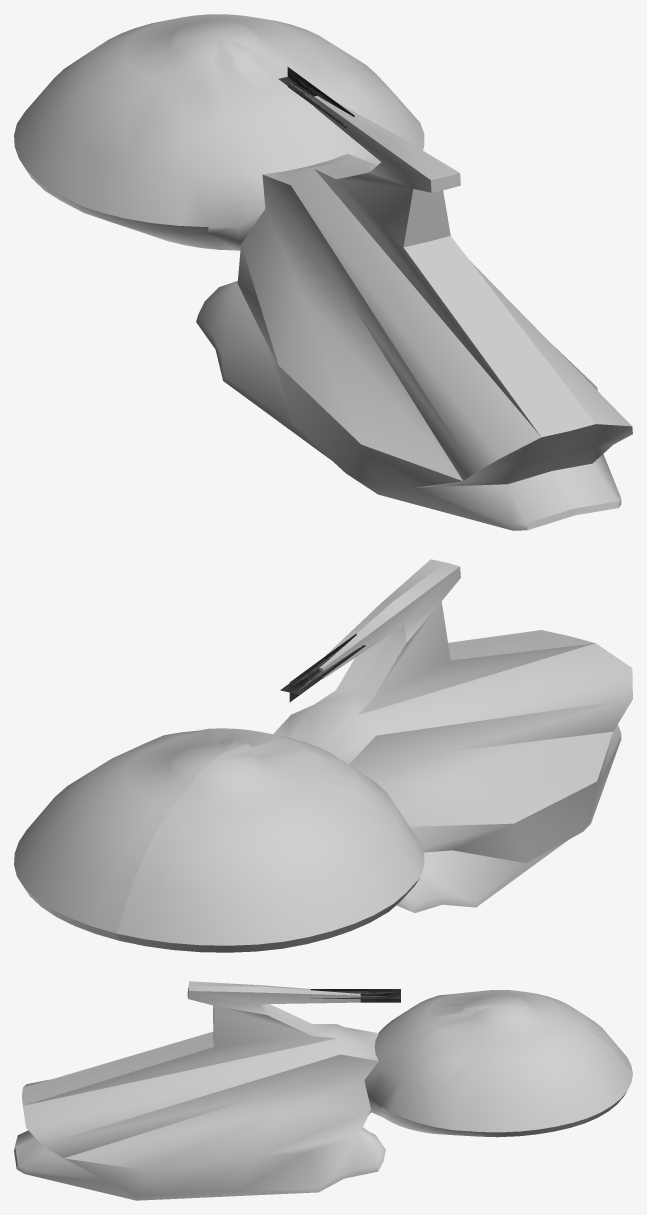
File: Small_s02_p03.FBX
3 renders of one model, top to bottom at view 1: azimuth 30°, elevation 25°; view 2: azimuth 150°, elevation 25°; view 3: azimuth 270°, elevation 25°, orthographic. The views are drawn at different scales.
Visible parts, largest first — view 1: Small_s02_p03; view 2: Small_s02_p03; view 3: Small_s02_p03.
Part boxes in pixels (left/top/right/bottom): Small_s02_p03: left=14, top=14, right=632, bottom=530; Small_s02_p03: left=14, top=559, right=632, bottom=952; Small_s02_p03: left=14, top=981, right=632, bottom=1200.
Size of the model in its own units: 570 by 413 by 1278.
